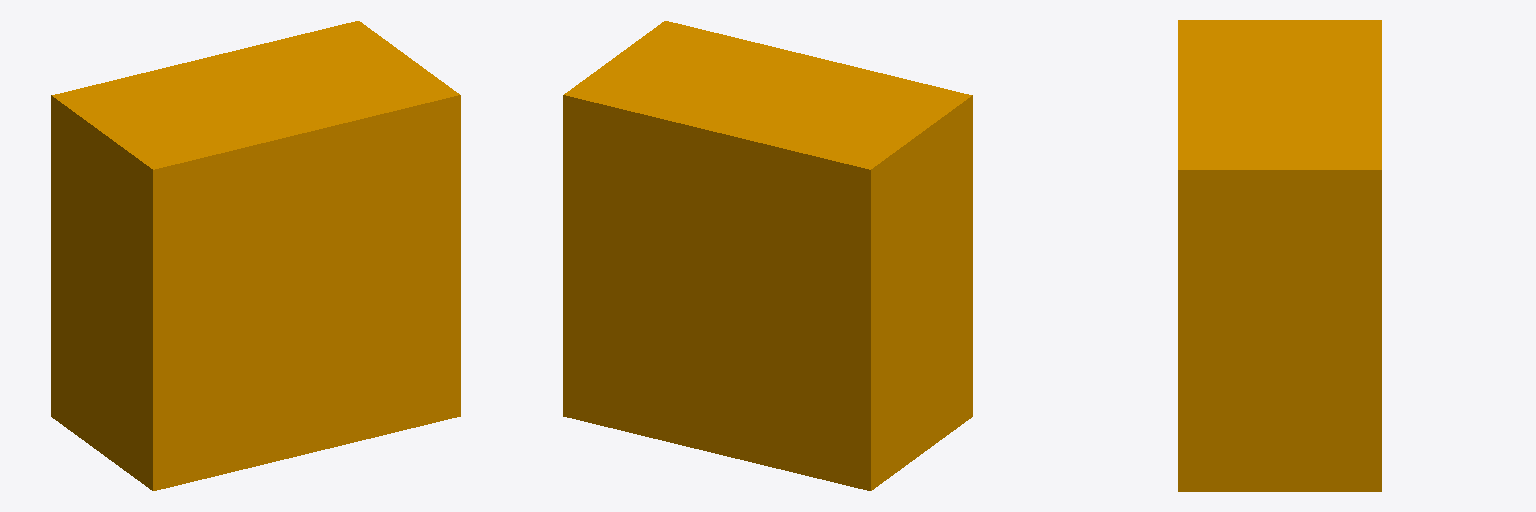
The robot description file, URDF, robot "note":
<?xml version="1.0"?>
<robot name="note">
    <link name="note_base_link">
        <contact>
            <lateral_friction value="1.0"/>
            <spinning_friction value="0.01"/>
            <rolling_friction value="0.01"/>
            <contact_cfm value="0.0"/>
            <contact_erp value="1.0"/>
        </contact>
        <inertial>
            <origin rpy="0 0 0" xyz="0 0 0"/>
            <mass value="0.190"/>
            <inertia ixx="1" ixy="0" ixz="0" iyy="1" iyz="0" izz="1"/>
        </inertial>
        <visual>
            <origin rpy="0 0 1.5708" xyz="0 0 0"/>
            <geometry>
                <mesh filename="cuboid/visual/note.obj" scale="1.0 1.0 1.0"/>
            </geometry>
        </visual>
        <collision>
            <origin rpy="0 0 1.5708" xyz="0 0 0"/>
            <geometry>
                <mesh filename="cuboid/collision/note.stl" scale="1.0 1.0 1.0"/>
            </geometry>
        </collision>
    </link>
</robot>

--- What the picture shows (computed from the rendered views, not written in the file) ---
Views: 3 orthographic renders of the robot side by side, from view 1: azimuth 30°, elevation 25°; view 2: azimuth 150°, elevation 25°; view 3: azimuth 270°, elevation 25°.
Model note with 1 links and 0 joints (none), rooted at note_base_link, posed all joints at 0.
Visible links, largest first — view 1: note_base_link; view 2: note_base_link; view 3: note_base_link.
Boxes of the visible links, x1=… form: note_base_link: x1=51, y1=21, x2=460, y2=490; note_base_link: x1=563, y1=21, x2=972, y2=490; note_base_link: x1=1178, y1=20, x2=1381, y2=491.
Size in the robot's own frame: 0.075 by 0.043 by 0.075 metres.
Meshes: 1 distinct files referenced, 1 mesh visuals loaded (1 OBJ).